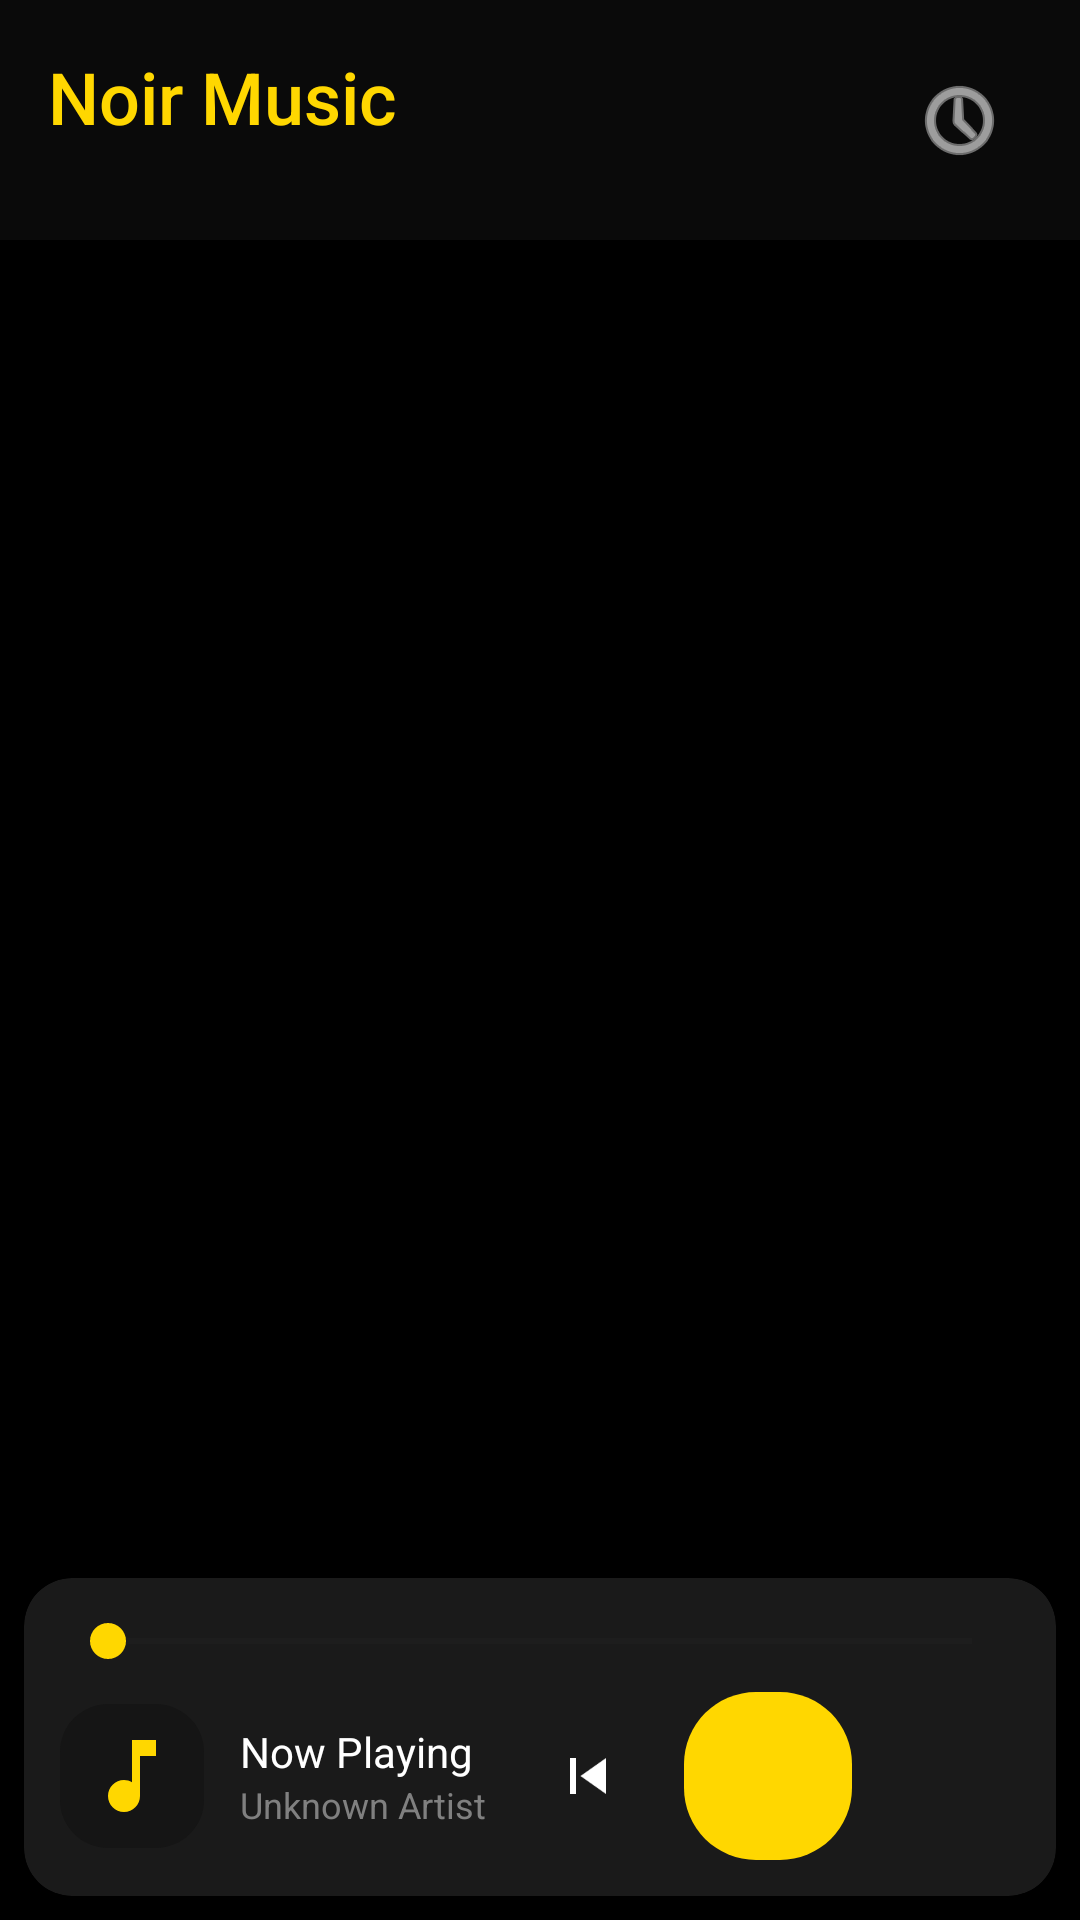

Named icons in this screenshot (1080x1920) and their centers, point (x, y):
Previous: point (588, 1776)
Sleep Timer: point (959, 120)
